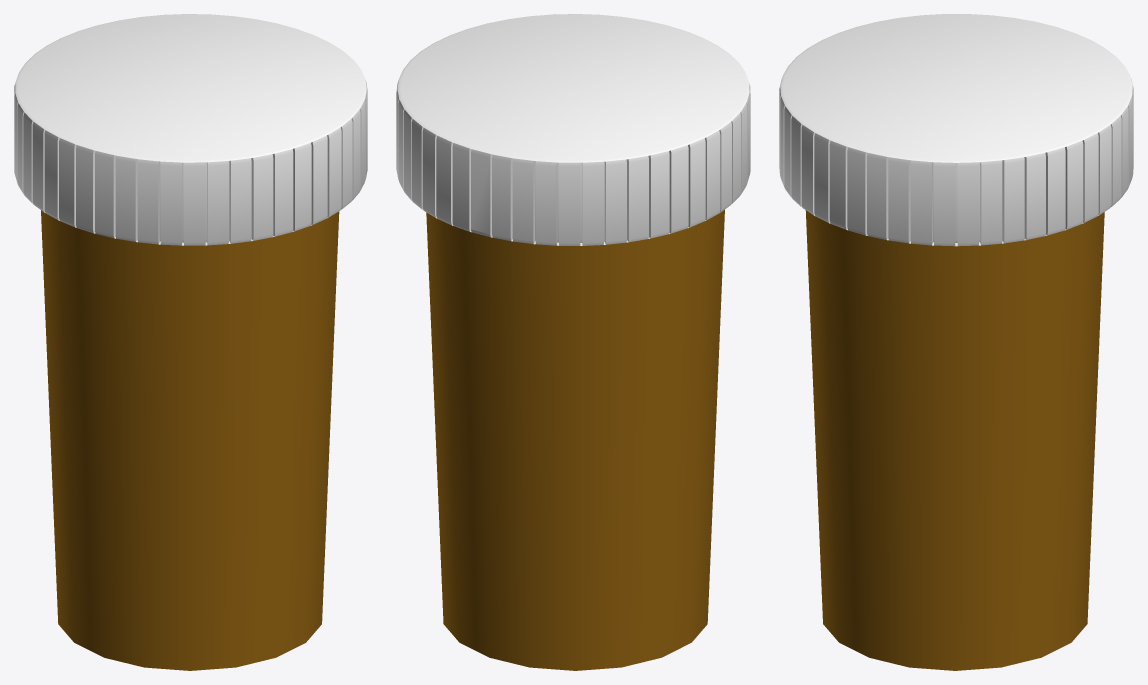
Rendered from Item_Pills (AMG) (1).fbx.
The picture shows the model from 3 angles, left to right: view 1: azimuth 30°, elevation 25°; view 2: azimuth 150°, elevation 25°; view 3: azimuth 270°, elevation 25°; orthographic projection.
Visible parts, largest first — view 1: Cylinder002 (×2); view 2: Cylinder002 (×2); view 3: Cylinder002 (×2).
Boxes of the visible parts, left/top/right/bottom form: Cylinder002 (×2): left=14, top=14, right=367, bottom=670; Cylinder002 (×2): left=396, top=14, right=750, bottom=670; Cylinder002 (×2): left=779, top=14, right=1133, bottom=670.
Bounding box in the file's own units: 22.37 × 36.75 × 22.38.
